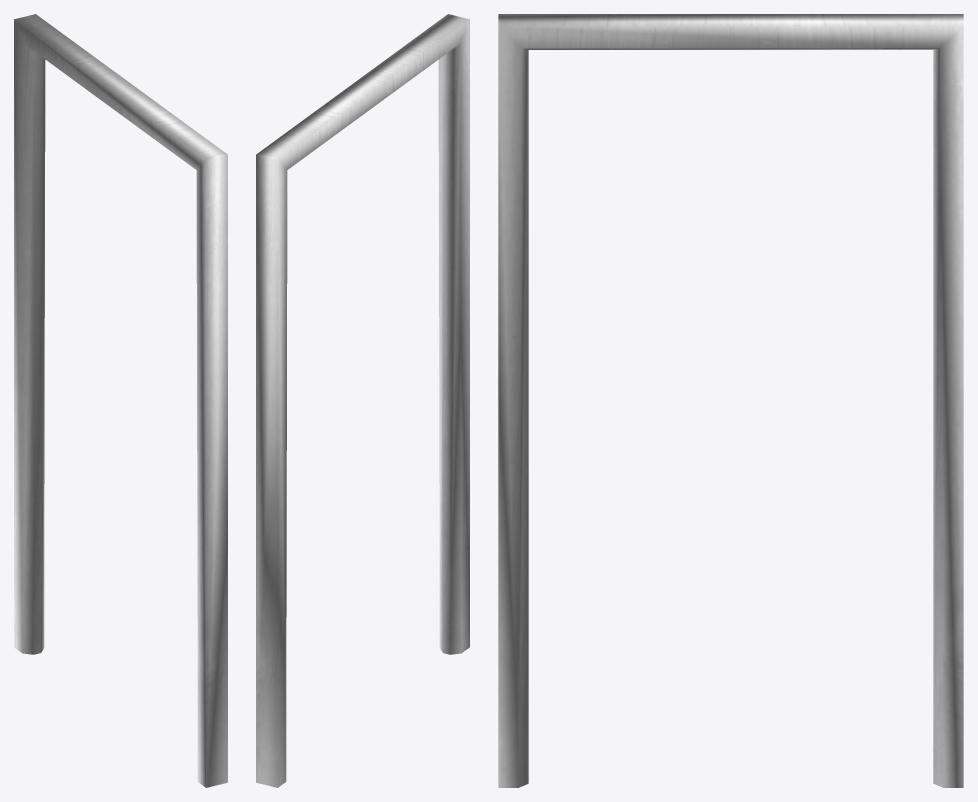
Rendered from door_1.obj.
3 views of the same model, side by side, from view 1: azimuth 30°, elevation 25°; view 2: azimuth 150°, elevation 25°; view 3: azimuth 270°, elevation 25° (orthographic). The views are drawn at different scales.
Visible parts, largest first — view 1: door_1; view 2: door_1; view 3: door_1.
Part boxes in pixels (x1=…): door_1: x1=14, y1=14, x2=227, y2=787; door_1: x1=256, y1=14, x2=469, y2=787; door_1: x1=498, y1=14, x2=963, y2=787.
Bounding box in the file's own units: 0.7224 × 19.99 × 11.08.
Materials: 1 (1 with a texture image).
